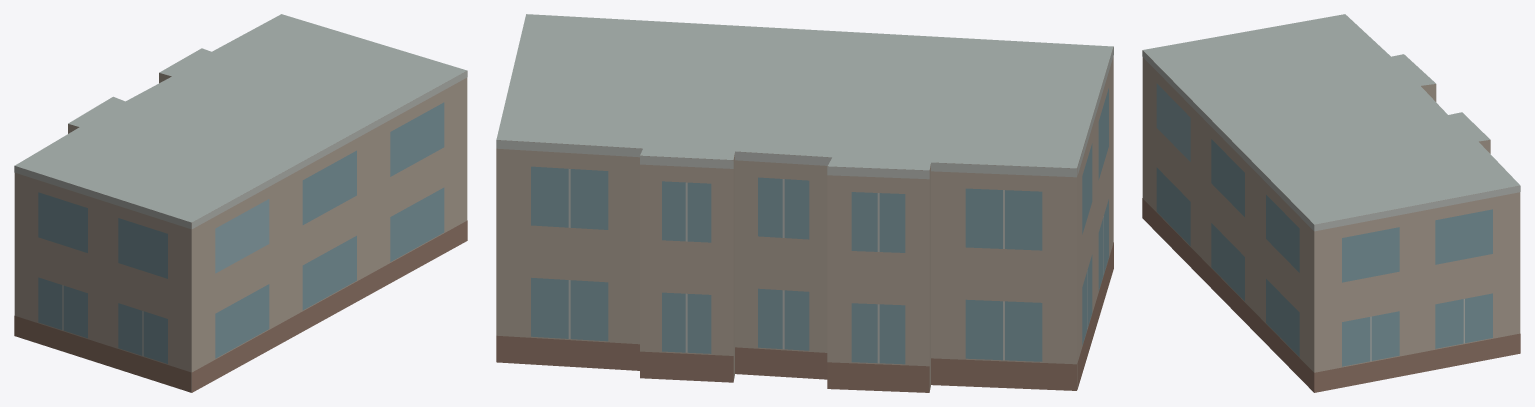
Rendered from survey-upis-32735110.glb.
3 views of the same model, side by side, from view 1: azimuth 30°, elevation 25°; view 2: azimuth 150°, elevation 25°; view 3: azimuth 270°, elevation 25° (orthographic). The views are drawn at different scales.
Visible parts, largest first — view 1: survey-upis-32735110.tmp; view 2: survey-upis-32735110.tmp; view 3: survey-upis-32735110.tmp.
Boxes of the visible parts, x1,y1,x2,y2 form: survey-upis-32735110.tmp: (14,14,467,392); survey-upis-32735110.tmp: (496,14,1113,392); survey-upis-32735110.tmp: (1142,14,1520,392).
Bounding box in the file's own units: 16.4 × 6.1 × 12.44.
